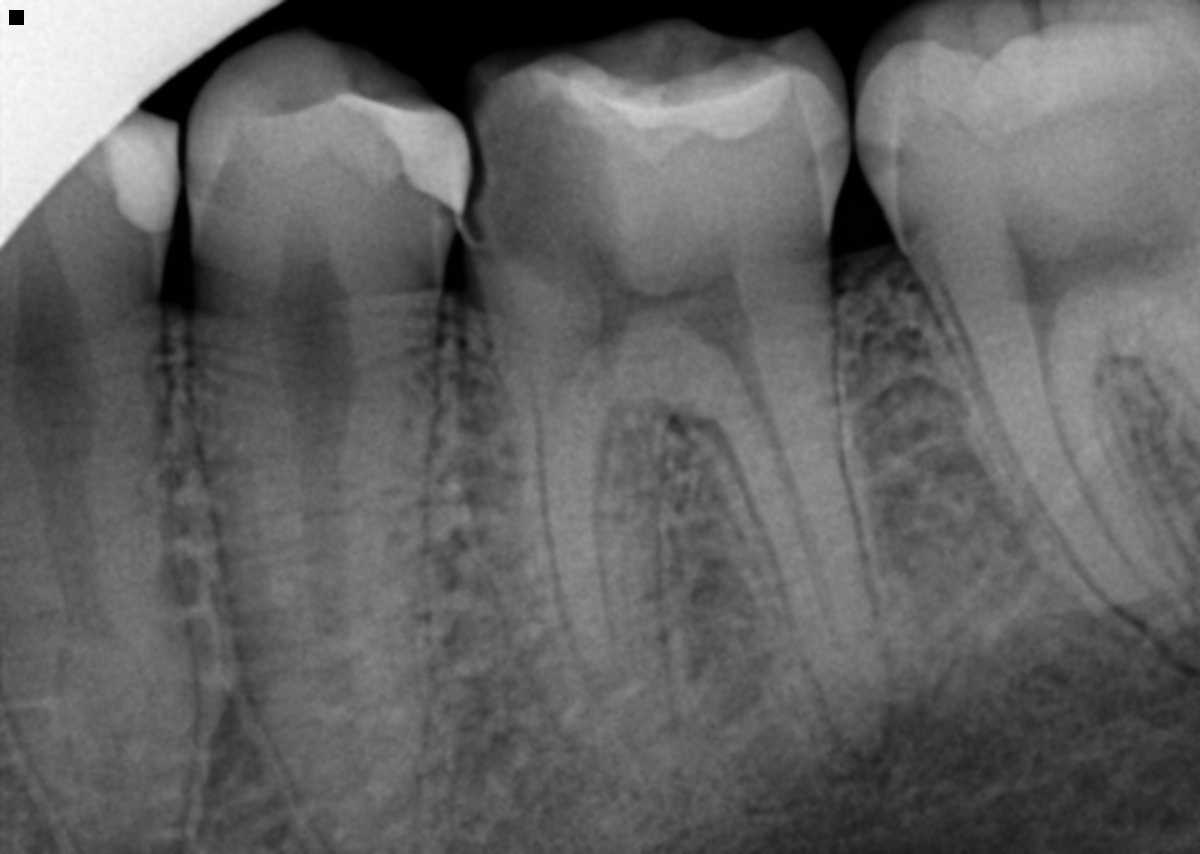Apical Lesion: (834, 691, 918, 785)
Distal Canal: (735, 360, 864, 690)
Distal Root: (699, 324, 894, 763)
Main Canal: (13, 309, 174, 835), (276, 308, 376, 817)
Main Root: (194, 290, 444, 851), (0, 302, 199, 854)
Mesial Canal: (1036, 337, 1197, 643)
Mesial Root: (467, 324, 678, 791), (941, 318, 1199, 676)
decay: (479, 76, 624, 307)
